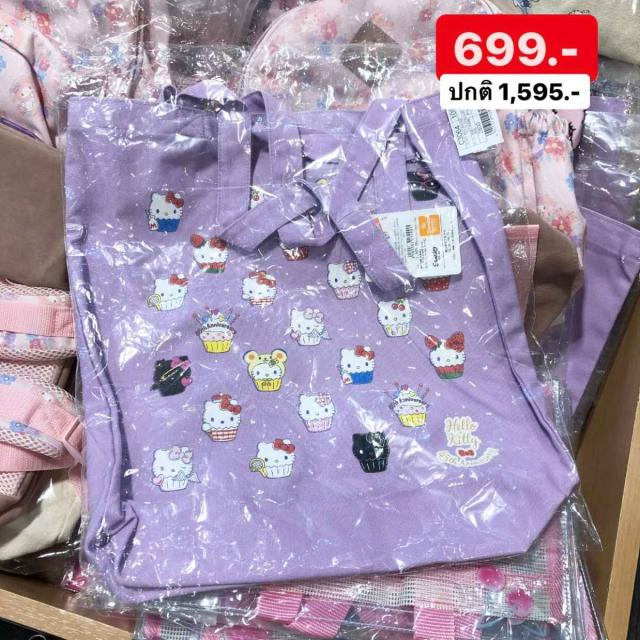handbag: (40, 44, 602, 600)
